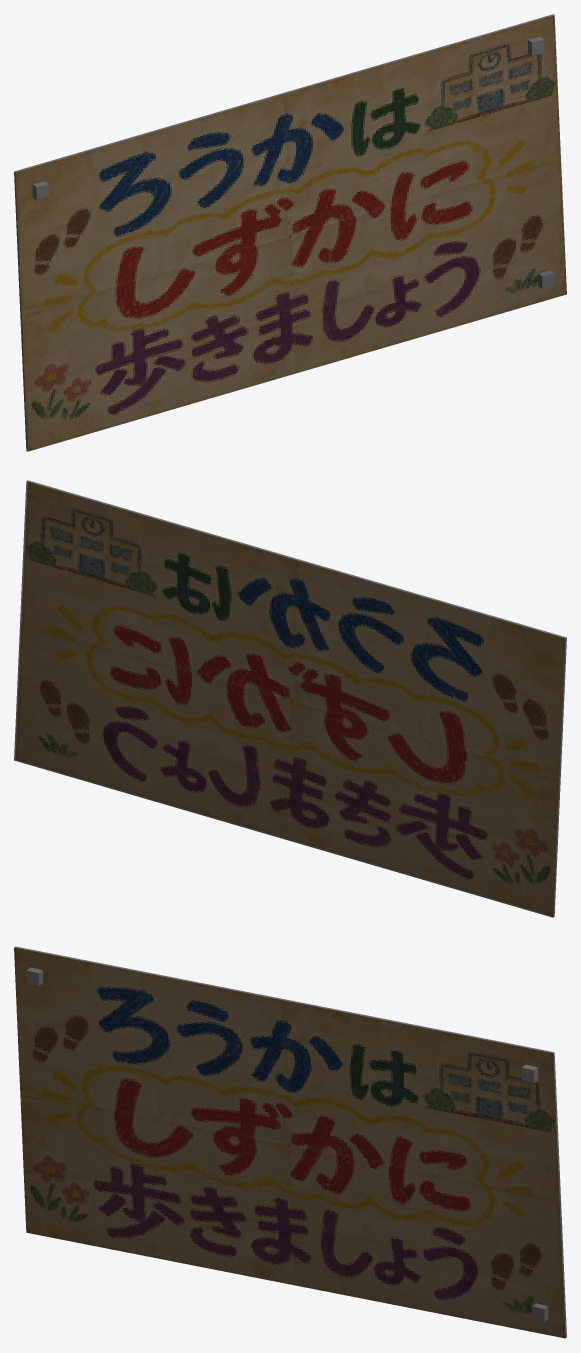
Rendered from prop_poster-rouka-0.glb.
3 renders of one model, top to bottom at view 1: azimuth 30°, elevation 25°; view 2: azimuth 150°, elevation 25°; view 3: azimuth 330°, elevation 25°, orthographic.
Visible parts, largest first — view 1: prop_poster-rouka-0; view 2: prop_poster-rouka-0; view 3: prop_poster-rouka-0.
Part boxes in pixels (x1,y1,x2,y2): prop_poster-rouka-0: (14, 14, 566, 451); prop_poster-rouka-0: (14, 480, 566, 917); prop_poster-rouka-0: (14, 946, 566, 1338).
Size of the model in its own units: 0.6278 by 0.3349 by 0.0115.
Materials: 2 (2 with a texture image).
